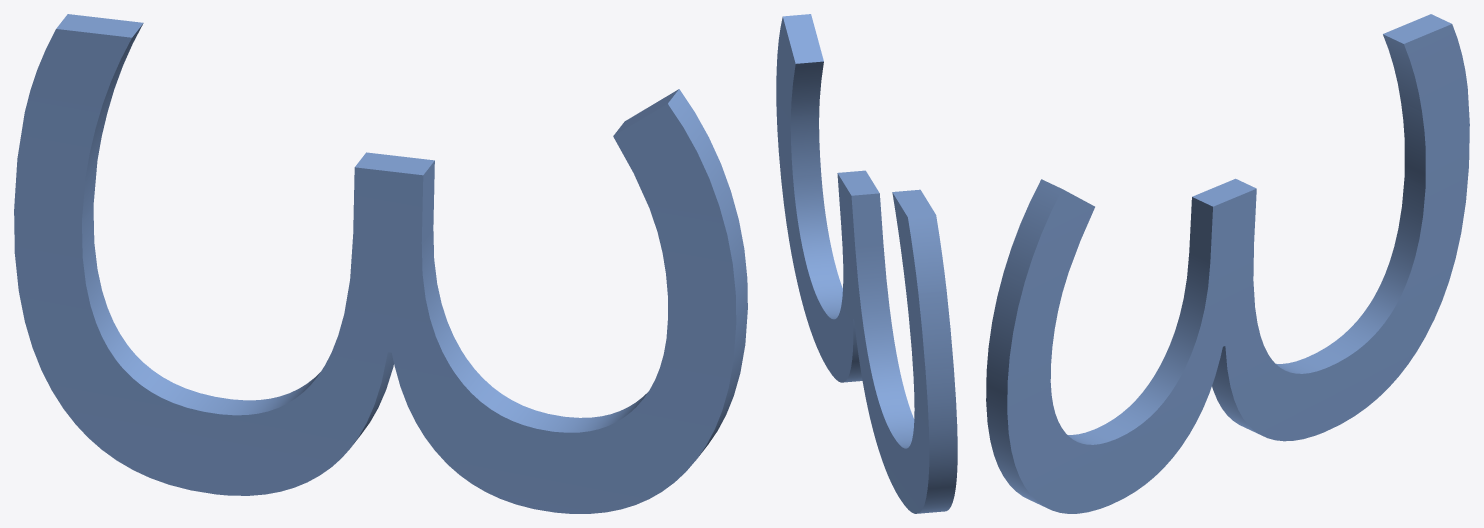
The model's file is New_Number_3.gltf.
The picture shows the model from 3 angles, left to right: view 1: azimuth 30°, elevation 25°; view 2: azimuth 150°, elevation 25°; view 3: azimuth 270°, elevation 25°; orthographic projection. The views are drawn at different scales.
Visible parts, largest first — view 1: Part 183; view 2: Part 183; view 3: Part 183.
Boxes of the visible parts, x1=… form: Part 183: x1=14, y1=14, x2=747, y2=513; Part 183: x1=776, y1=14, x2=957, y2=513; Part 183: x1=986, y1=14, x2=1469, y2=513.
Size of the model in its own units: 0.00383 by 0.0033 by 0.00388.
